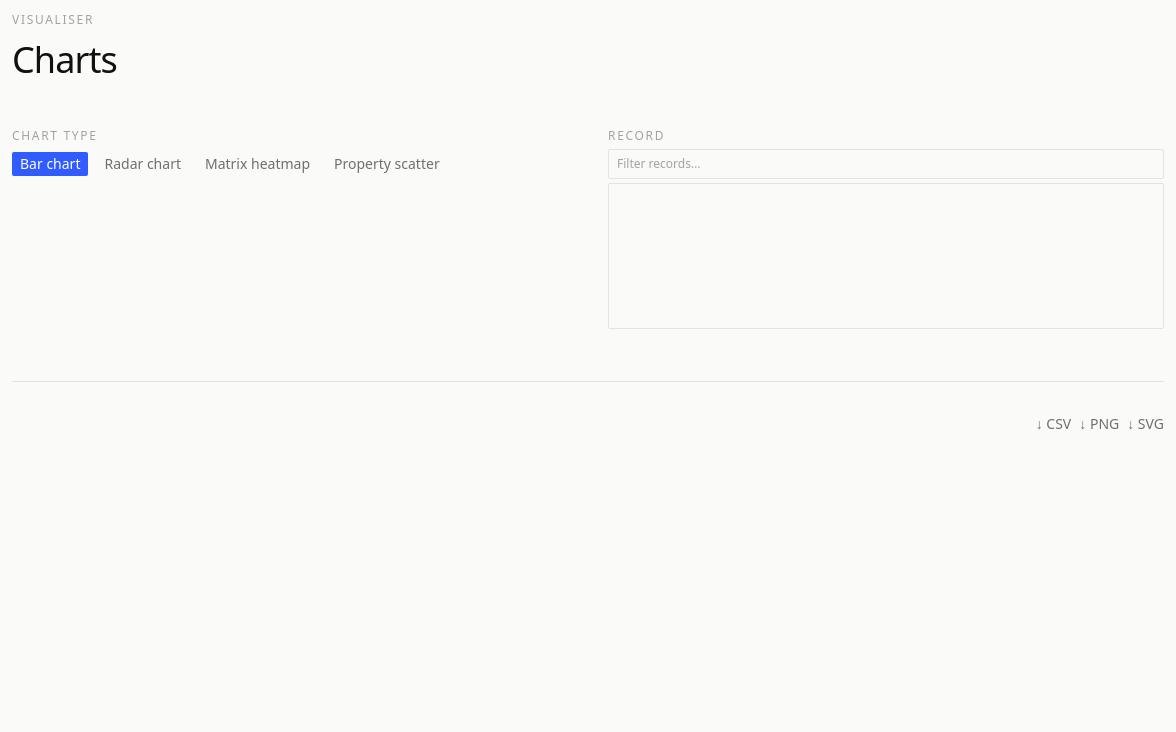
Visualiser — chart type switching › checking overlay shows a second record selector
Click the button "Radar chart" at (143, 164), box [96, 152, 189, 176]
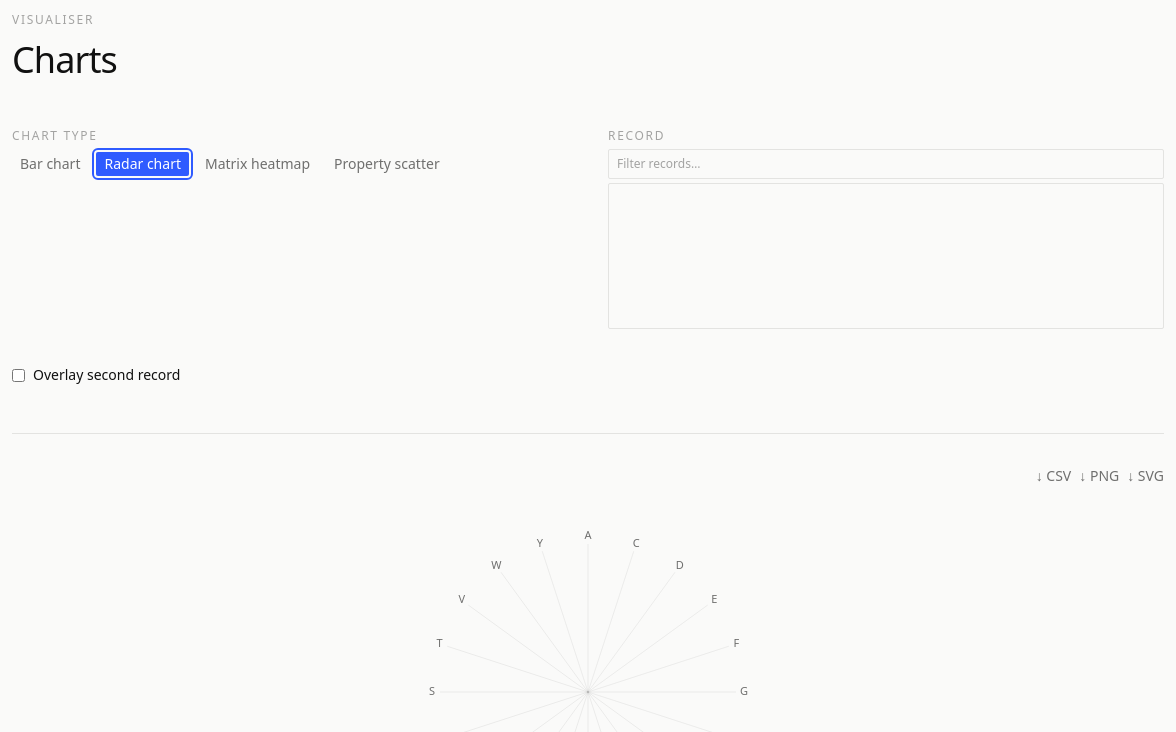
Click the checkbox labelled "Overlay second record" at (18, 375), box [12, 368, 25, 382]
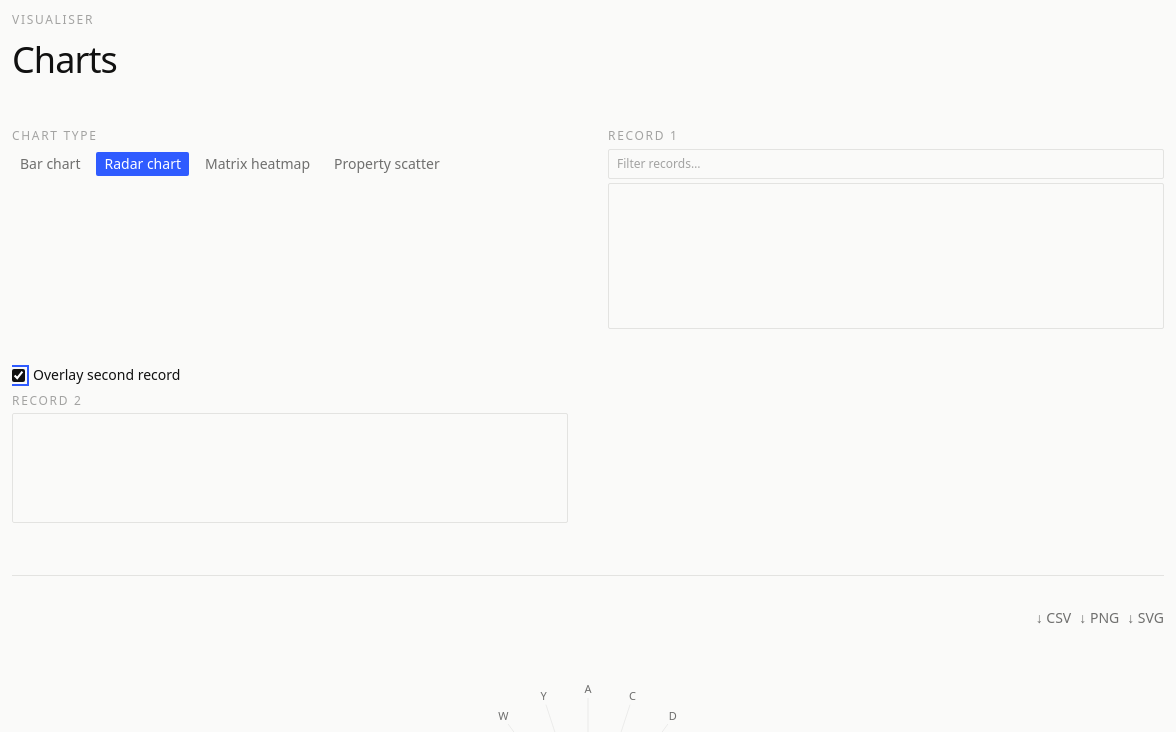
Expected: the text "Record 2" is shown, [12, 392, 82, 409]
